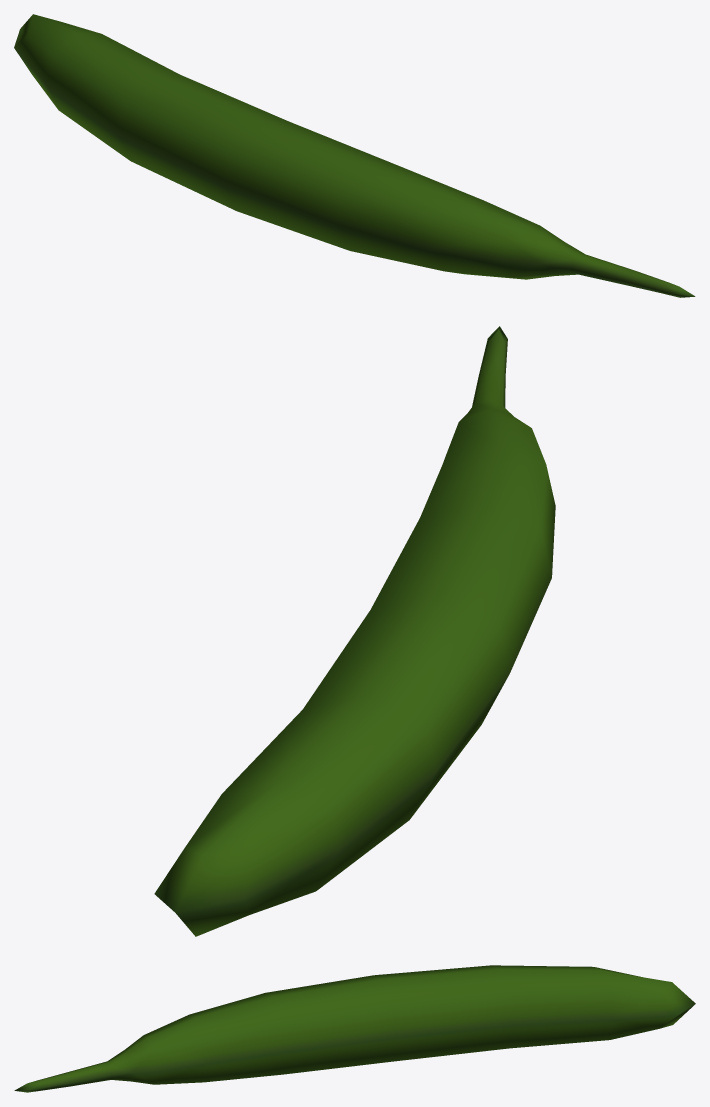
File: GreenBean (11).fbx
The picture shows the model from 3 angles, top to bottom: view 1: azimuth 30°, elevation 25°; view 2: azimuth 150°, elevation 25°; view 3: azimuth 270°, elevation 25°; orthographic projection. The views are drawn at different scales.
Visible parts, largest first — view 1: Apple (4); view 2: Apple (4); view 3: Apple (4).
Part boxes in pixels (x1,y1,x2,y2): Apple (4): (14,14,695,297); Apple (4): (154,326,555,936); Apple (4): (14,965,695,1092).
Bounding box in the file's own units: 0.525 × 0.1772 × 1.48.
